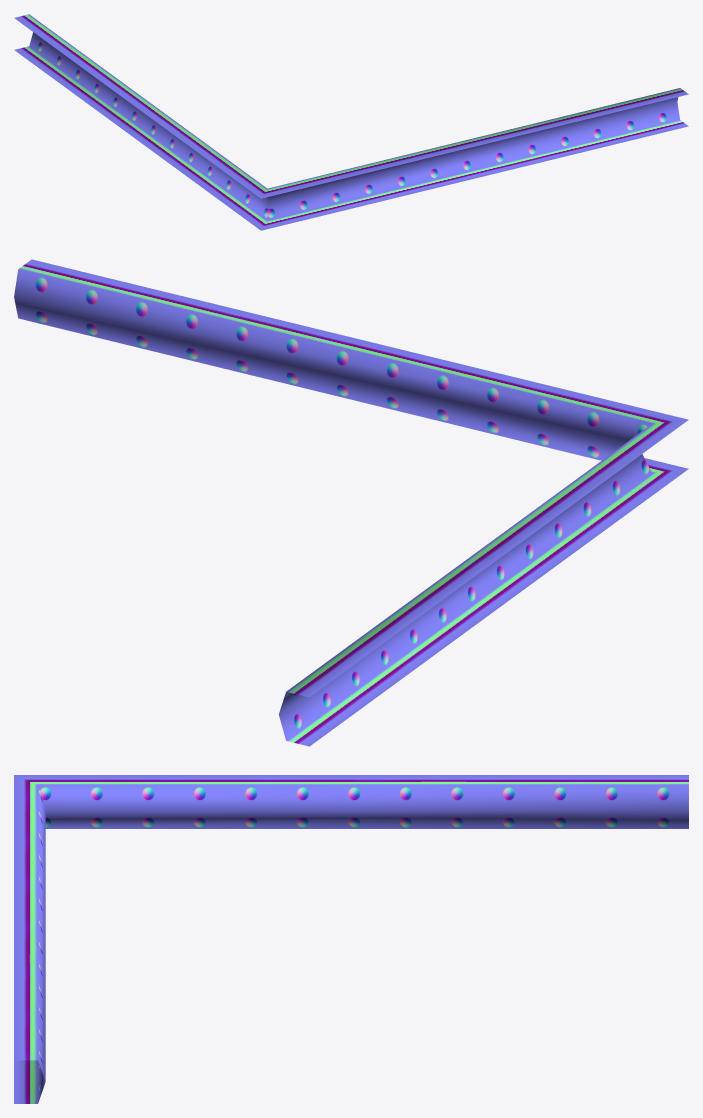
The model's file is sm_wall_roof_edge_inner_corner_02.fbx.
3 views of the same model, one above another, from view 1: azimuth 30°, elevation 25°; view 2: azimuth 150°, elevation 25°; view 3: azimuth 270°, elevation 25° (orthographic). The views are drawn at different scales.
Parts seen in each view (by area): view 1: sm_wall_roof_edge_inner_corner_02; view 2: sm_wall_roof_edge_inner_corner_02; view 3: sm_wall_roof_edge_inner_corner_02.
Part boxes in pixels (x1,y1,x2,y2): sm_wall_roof_edge_inner_corner_02: (14,14,688,230); sm_wall_roof_edge_inner_corner_02: (14,259,688,746); sm_wall_roof_edge_inner_corner_02: (14,775,688,1103).
Size of the model in its own units: 350 by 25 by 350.
1 material, 1 textured.
